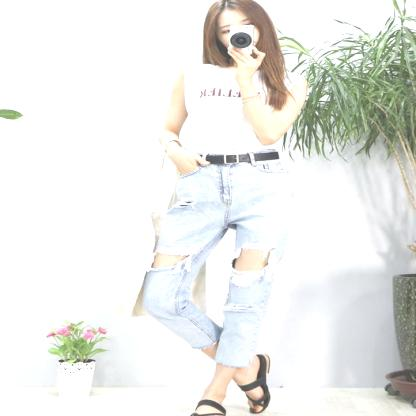jacket: (182, 63, 306, 154)
